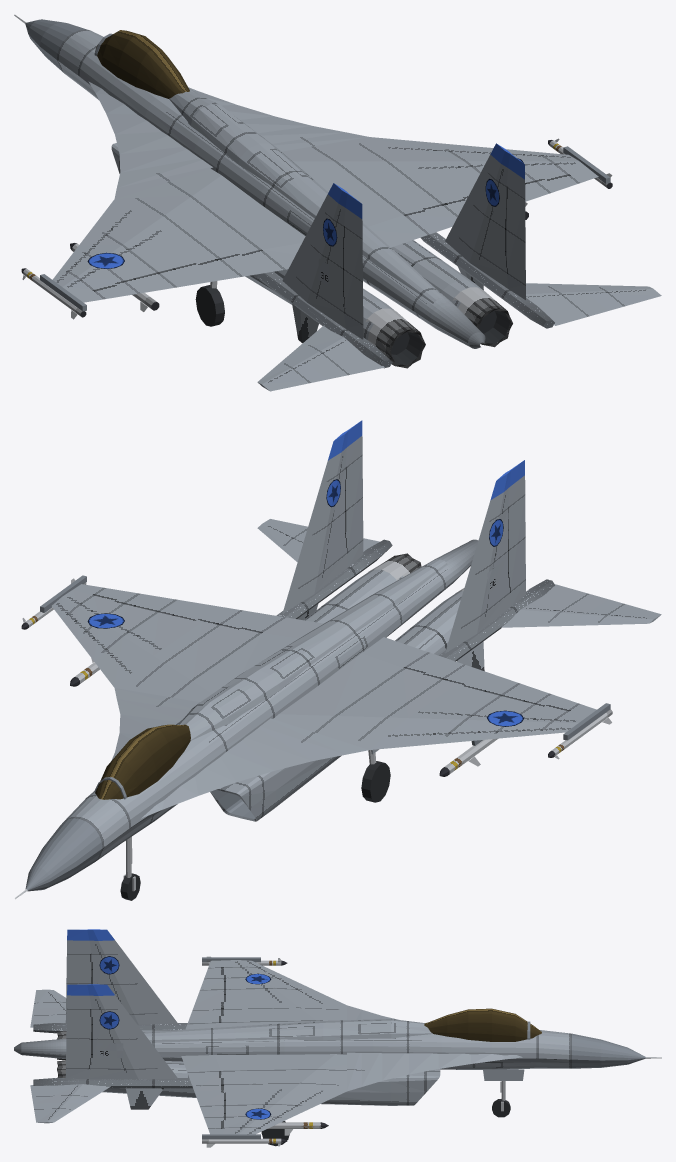
The picture shows the model from 3 angles, top to bottom: view 1: azimuth 30°, elevation 25°; view 2: azimuth 150°, elevation 25°; view 3: azimuth 270°, elevation 25°; orthographic projection. The views are drawn at different scales.
Visible parts, largest first — view 1: airframe, stab_l, canopy, stab_r, flap_l, rudder_r, rudder_l, flap_r, aileron_l, gear_main_l, aileron_r; view 2: airframe, canopy, stab_l, flap_l, flap_r, rudder_l, rudder_r, stab_r, gear_main_l, aileron_l, aileron_r, gear_nose; view 3: airframe, canopy, stab_r, rudder_r, flap_r, stab_l, flap_l, rudder_l, aileron_r, aileron_l, msl_1, door_nose (+2 smaller).
Boxes of the visible parts, x1,y1,x2,y2 form: airframe: (14, 14, 610, 368); stab_l: (257, 326, 384, 391); canopy: (94, 30, 189, 98); stab_r: (526, 283, 661, 325); flap_l: (159, 249, 286, 287); rudder_r: (506, 187, 525, 284); rudder_l: (344, 226, 363, 324); flap_r: (403, 197, 467, 234); aileron_l: (94, 272, 177, 298); gear_main_l: (195, 281, 224, 326); aileron_r: (525, 174, 578, 201); airframe: (15, 420, 610, 898); canopy: (94, 724, 190, 799); stab_l: (501, 584, 661, 627); flap_l: (403, 652, 517, 695); flap_r: (159, 600, 286, 633); rudder_l: (508, 494, 525, 591); rudder_r: (345, 455, 363, 551); stab_r: (257, 519, 379, 562); gear_main_l: (361, 750, 390, 802); aileron_l: (499, 683, 578, 710); aileron_r: (94, 588, 177, 612); gear_nose: (120, 836, 140, 900); airframe: (14, 929, 661, 1139); canopy: (424, 1008, 541, 1041); stab_r: (30, 1084, 110, 1123); rudder_r: (66, 1009, 91, 1068); flap_r: (187, 1070, 225, 1105); stab_l: (30, 989, 66, 1027); flap_l: (187, 990, 225, 1024); rudder_l: (66, 954, 91, 1012); aileron_r: (200, 1105, 226, 1128); aileron_l: (199, 968, 226, 990); msl_1: (202, 1138, 287, 1147); door_nose: (483, 1069, 524, 1080).
Bounding box in the file's own units: 14.57 × 5.95 × 21.9.
Materials: 6 (6 with a texture image).
